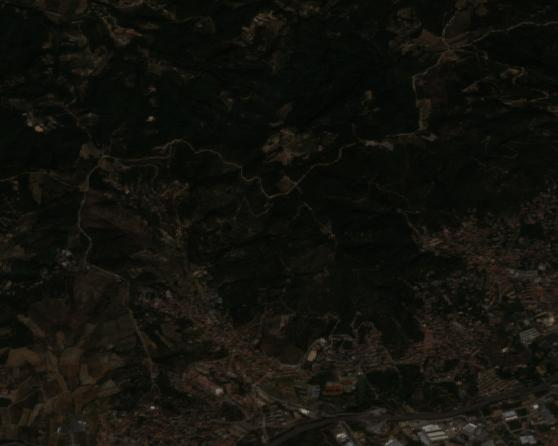Poblacion: (303, 300, 558, 446), (152, 253, 324, 443), (409, 175, 558, 320), (46, 361, 246, 446)
